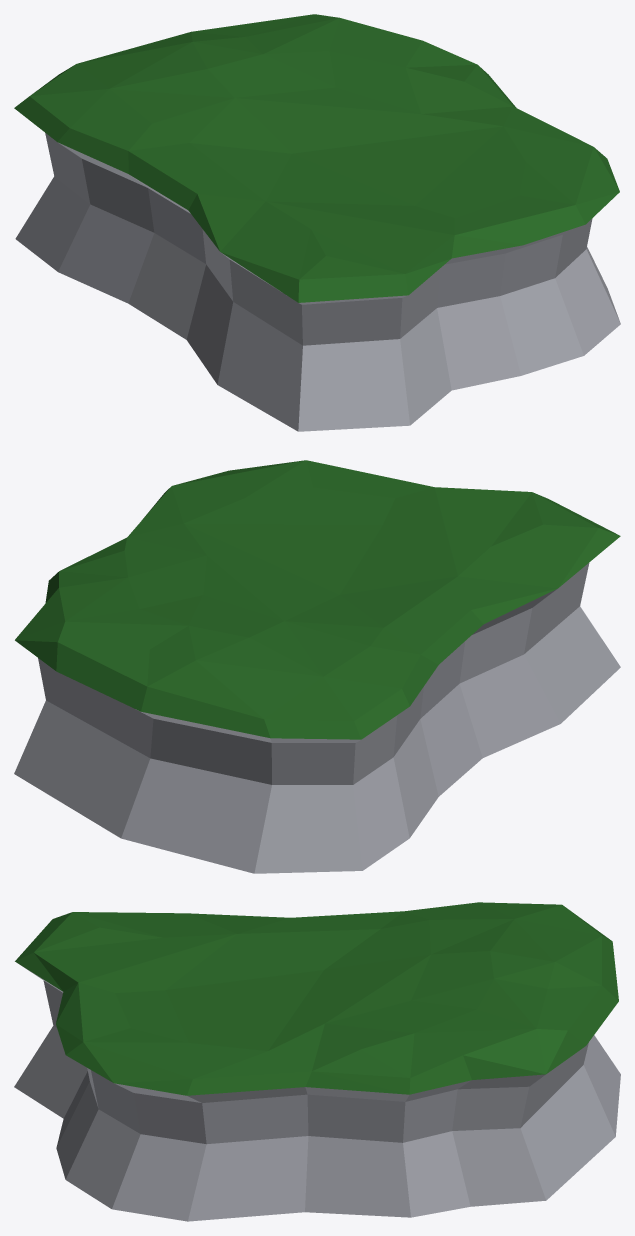
Rendered from cliff1.fbx.
3 renders of one model, top to bottom at view 1: azimuth 30°, elevation 25°; view 2: azimuth 150°, elevation 25°; view 3: azimuth 270°, elevation 25°, orthographic. The views are drawn at different scales.
Visible parts, largest first — view 1: Plane.001; view 2: Plane.001; view 3: Plane.001.
Part boxes in pixels (left/top/right/bottom): Plane.001: left=14, top=14, right=620, bottom=431; Plane.001: left=14, top=460, right=620, bottom=873; Plane.001: left=14, top=902, right=620, bottom=1221.
Bounding box in the file's own units: 306 × 121 × 422.
